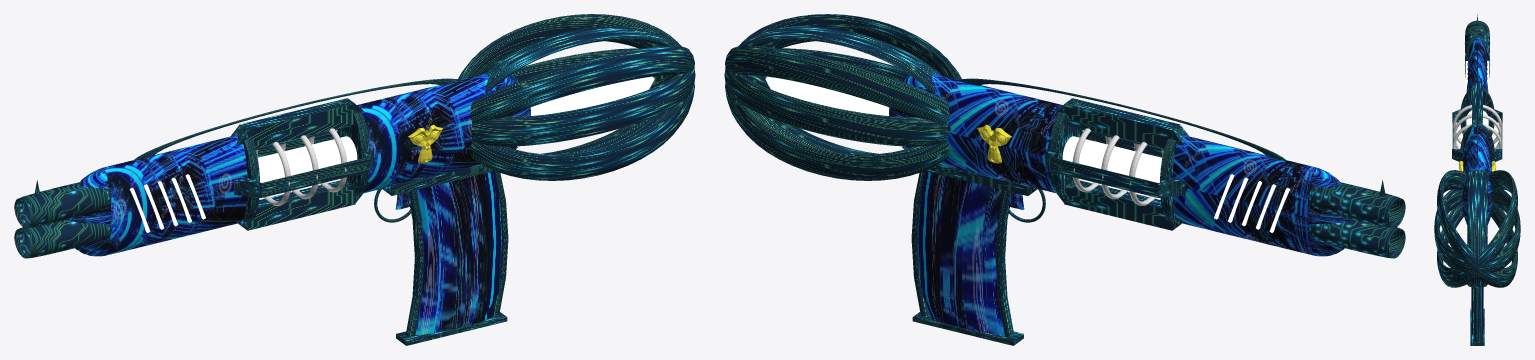
Rendered from gun2.glb.
3 renders of one model, left to right at view 1: azimuth 30°, elevation 25°; view 2: azimuth 150°, elevation 25°; view 3: azimuth 270°, elevation 25°, orthographic. The views are drawn at different scales.
Parts seen in each view (by area): view 1: Torus.008, Cylinder, Torus.012, Cylinder.004, Torus.013, Torus.011, Torus.014, Cube.004, Torus.001, Torus.006, Cube.005, Cylinder.001 (+11 smaller); view 2: Torus.008, Cylinder, Torus.011, Cylinder.004, Torus.013, Torus.012, Torus.014, Cube.004, Torus.001, Torus.006, Cube.005, Cylinder.001 (+11 smaller); view 3: Torus.011, Torus.012, Torus.013, Torus.014, Cylinder.004, Cylinder, Torus.001, Cylinder.002, Sphere.004, Cube.004, Torus.010, Torus.008 (+11 smaller).
Boxes of the visible parts, x1,y1,x2,y2 form: Torus.008: (415,165,501,334); Cylinder: (102,135,247,255); Torus.012: (458,14,694,180); Cylinder.004: (357,74,495,192); Torus.013: (471,48,695,146); Torus.011: (470,45,694,123); Torus.014: (478,26,682,154); Cube.004: (240,98,355,148); Torus.001: (14,182,111,227); Torus.006: (14,220,111,258); Cube.005: (247,180,355,230); Cylinder.001: (257,136,357,182); Torus.008: (918,165,1004,334); Cylinder: (1172,135,1317,255); Torus.011: (725,14,961,180); Cylinder.004: (924,74,1062,192); Torus.013: (724,48,948,146); Torus.012: (725,45,949,123); Torus.014: (737,26,941,154); Cube.004: (1064,98,1179,148); Torus.001: (1308,182,1405,227); Torus.006: (1308,220,1405,258); Cube.005: (1064,180,1172,230); Cylinder.001: (1062,136,1162,182); Torus.011: (1437,170,1517,287); Torus.012: (1437,170,1517,287); Torus.013: (1434,189,1520,272); Torus.014: (1467,169,1487,287); Cylinder.004: (1462,126,1492,197); Cylinder: (1466,40,1488,92); Torus.001: (1464,20,1490,60); Cylinder.002: (1460,88,1494,135); Sphere.004: (1462,179,1492,224); Cube.004: (1472,82,1482,119); Torus.010: (1474,288,1480,341); Torus.008: (1471,287,1483,336).
Size of the model in its own units: 0.2404 by 0.0911 by 0.0388.
Materials: 5 (2 with a texture image).
